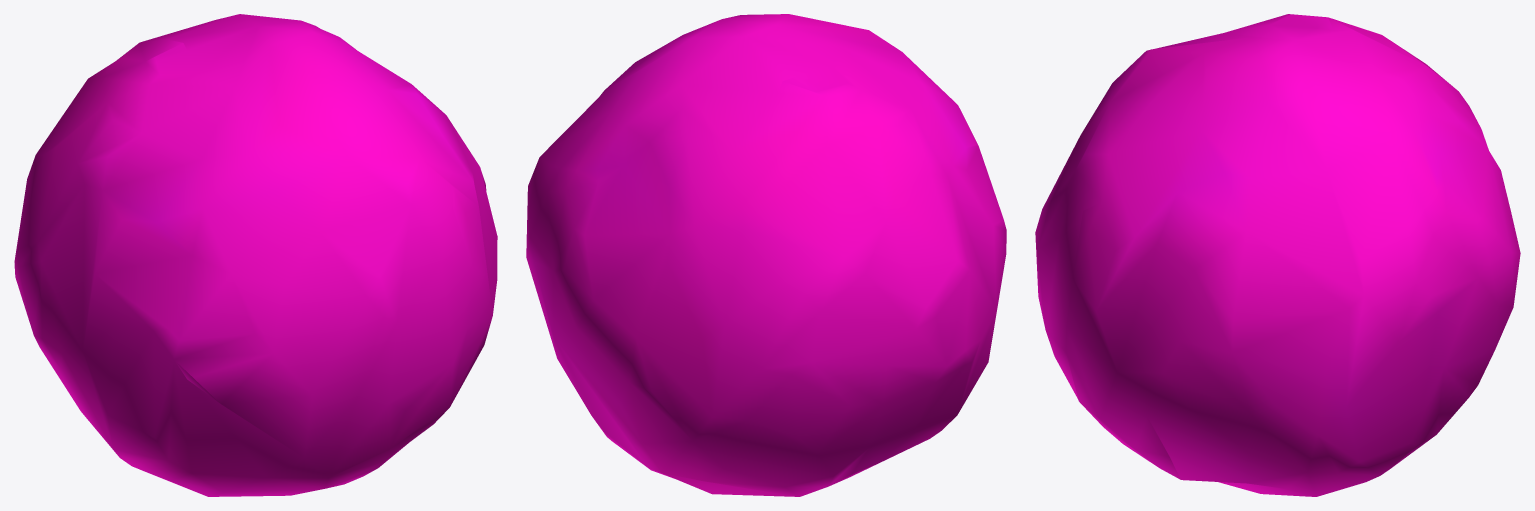
File: space-asteroids-asteroid_v17.glb
3 renders of one model, left to right at view 1: azimuth 30°, elevation 25°; view 2: azimuth 150°, elevation 25°; view 3: azimuth 270°, elevation 25°, orthographic.
Parts seen in each view (by area): view 1: Asteroid_v17; view 2: Asteroid_v17; view 3: Asteroid_v17.
Boxes of the visible parts, x1,y1,x2,y2 form: Asteroid_v17: (14, 14, 497, 496); Asteroid_v17: (526, 14, 1006, 496); Asteroid_v17: (1035, 14, 1520, 496).
Bounding box in the file's own units: 498 × 500 × 500.
